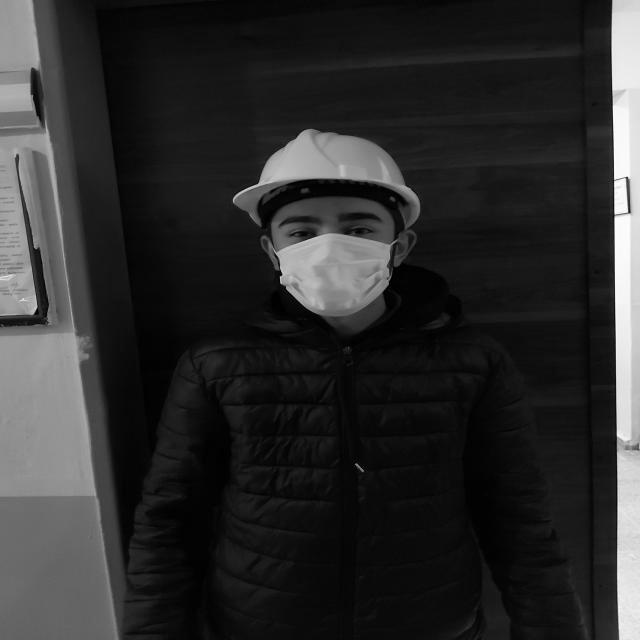construction helmet: (231, 129, 421, 229)
